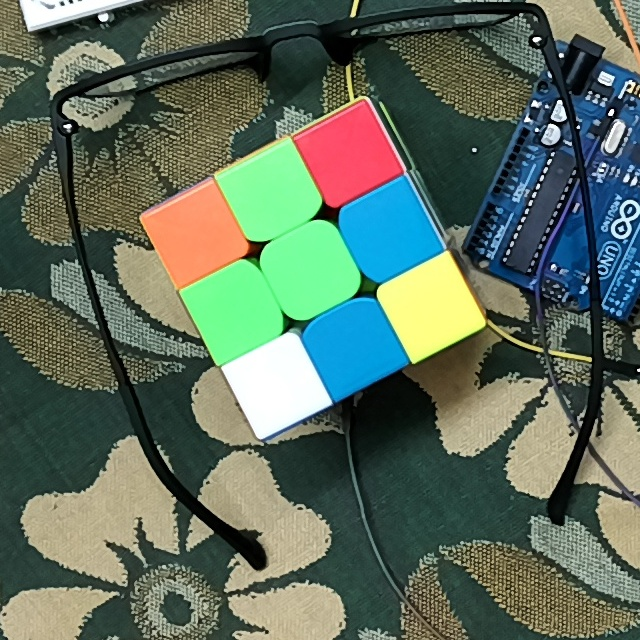tile: (398, 275, 462, 338), (276, 242, 339, 304), (360, 202, 423, 261), (324, 316, 382, 374), (319, 127, 379, 182), (248, 355, 302, 415), (241, 167, 300, 221), (167, 212, 224, 265), (204, 286, 262, 338)
